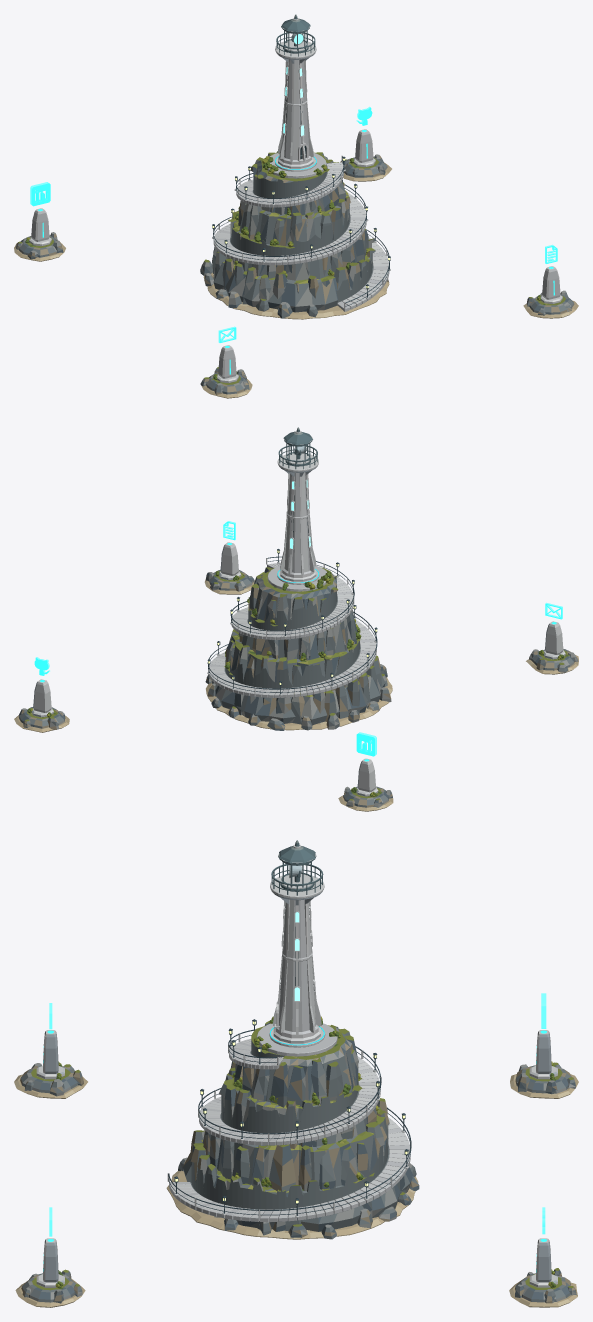
File: lumina_point_web_draco.glb
The picture shows the model from 3 angles, top to bottom: view 1: azimuth 30°, elevation 25°; view 2: azimuth 150°, elevation 25°; view 3: azimuth 270°, elevation 25°; orthographic projection. The views are drawn at different scales.
Parts seen in each view (by area): view 1: Static_MainIsland, Static_Lighthouse, Static_Monolith_Email, Static_Monolith_Document, Static_Monolith_LinkedIn, Static_Monolith_GitHub, Static_Lantern; view 2: Static_MainIsland, Static_Lighthouse, Static_Monolith_LinkedIn, Static_Monolith_GitHub, Static_Monolith_Email, Static_Monolith_Document, Static_Lantern; view 3: Static_MainIsland, Static_Lighthouse, Static_Monolith_Email, Static_Monolith_GitHub, Static_Monolith_LinkedIn, Static_Monolith_Document, Static_Lantern.
Part boxes in pixels (left/top/right/bottom): Static_MainIsland: left=200, top=151, right=390, bottom=319; Static_Lighthouse: left=275, top=32, right=316, bottom=168; Static_Monolith_Email: left=200, top=345, right=252, bottom=398; Static_Monolith_Document: left=523, top=266, right=578, bottom=318; Static_Monolith_LinkedIn: left=14, top=208, right=65, bottom=261; Static_Monolith_GitHub: left=340, top=129, right=391, bottom=181; Static_Lantern: left=281, top=14, right=310, bottom=53; Static_MainIsland: left=205, top=549, right=392, bottom=730; Static_Lighthouse: left=277, top=445, right=318, bottom=581; Static_Monolith_LinkedIn: left=338, top=758, right=393, bottom=811; Static_Monolith_GitHub: left=14, top=679, right=69, bottom=732; Static_Monolith_Email: left=526, top=621, right=578, bottom=674; Static_Monolith_Document: left=204, top=542, right=254, bottom=594; Static_Lantern: left=283, top=427, right=312, bottom=466; Static_MainIsland: left=166, top=1016, right=419, bottom=1239; Static_Lighthouse: left=270, top=864, right=324, bottom=1043; Static_Monolith_Email: left=14, top=1030, right=87, bottom=1098; Static_Monolith_GitHub: left=509, top=1238, right=577, bottom=1307; Static_Monolith_LinkedIn: left=510, top=1030, right=578, bottom=1098; Static_Monolith_Document: left=15, top=1238, right=85, bottom=1307; Static_Lantern: left=278, top=840, right=316, bottom=891.
Size of the model in its own units: 21.05 by 14.36 by 21.07.
